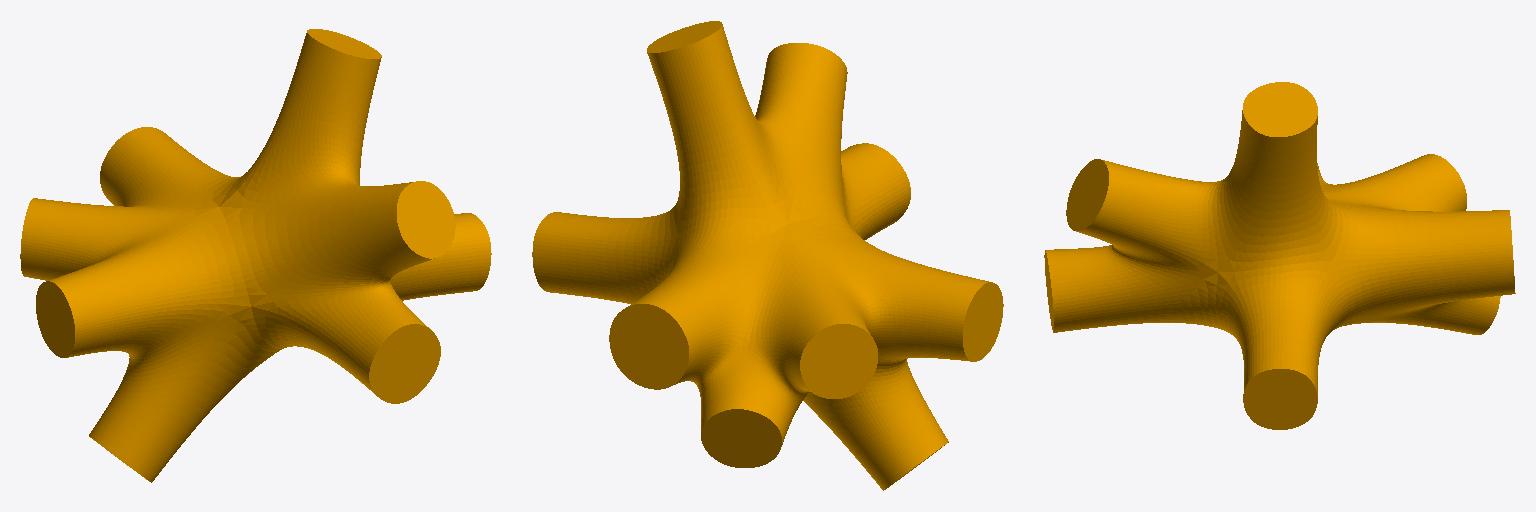
URDF robot description (object):
<robot name="object">
  <link name="object">
    <visual>
      <origin xyz="0 0 0"/>
      <geometry>
        <mesh filename="visual.obj" scale="1 1 1"/>
      </geometry>
    </visual>
    <collision>
      <origin xyz="0 0 0"/>
      <geometry>
        <mesh filename="collision.obj" scale="1 1 1"/>
      </geometry>
    </collision>
    <inertial>
      <mass value="0.05"/>
      <inertia ixx="0.00022928547878566324" iyy="0.00020416693548307825" izz="0.0002876760479551823" ixy="4.325724270873e-05" ixz="-3.58360979159075e-05" iyz="2.0093454628338674e-05"/>
    </inertial>
  </link>
</robot>

--- Render facts (derived) ---
The picture shows the robot from 3 angles, left to right: view 1: azimuth 30°, elevation 25°; view 2: azimuth 150°, elevation 25°; view 3: azimuth 270°, elevation 25°; orthographic projection.
Model object with 1 links and 0 joints (none), rooted at object, posed every joint at zero.
Links seen in each view (by area): view 1: object; view 2: object; view 3: object.
Boxes of the visible links, x1,y1,x2,y2 form: object: [20, 29, 491, 482]; object: [532, 21, 1003, 490]; object: [1044, 82, 1515, 429].
Bounding box of the posed robot: 0.282 × 0.2833 × 0.255 m (x, y, z).
Meshes: 1 distinct files referenced, 1 mesh visuals loaded (1 OBJ).
